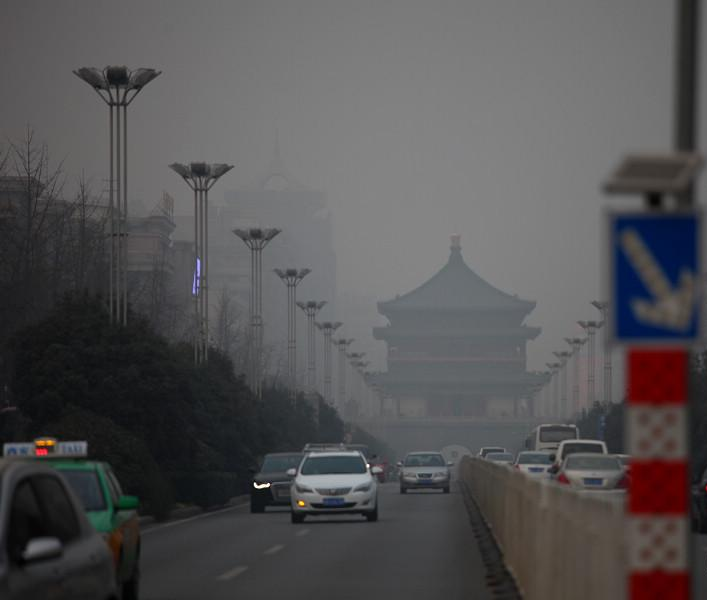bus: (524, 423, 579, 474)
car: (1, 436, 149, 597), (1, 459, 121, 599), (287, 450, 384, 522), (248, 452, 320, 514), (551, 452, 625, 500), (550, 438, 610, 485), (396, 451, 454, 494), (509, 451, 555, 484), (482, 452, 517, 477), (478, 447, 510, 470)
